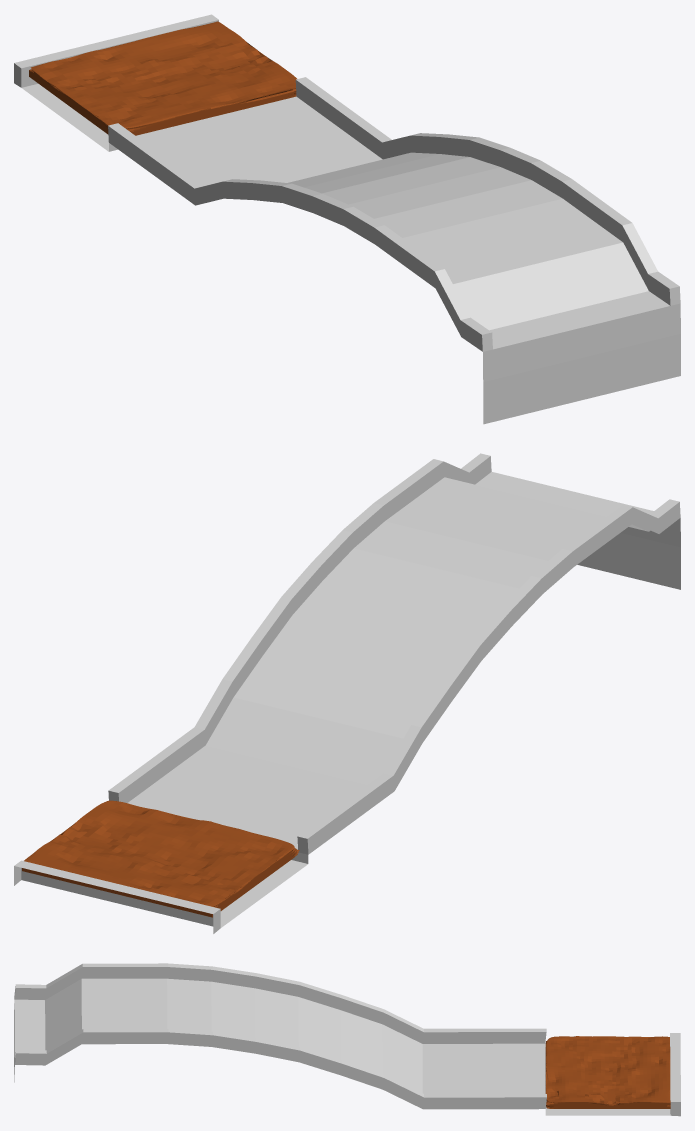
The model's file is RespawnPointModel.fbx.
3 renders of one model, top to bottom at view 1: azimuth 30°, elevation 25°; view 2: azimuth 150°, elevation 25°; view 3: azimuth 270°, elevation 25°, orthographic. The views are drawn at different scales.
Parts seen in each view (by area): view 1: Cube.011, Cube.012; view 2: Cube.011, Cube.012; view 3: Cube.011, Cube.012.
Boxes of the visible parts, x1,y1,x2,y2 form: Cube.011: [14, 14, 680, 424]; Cube.012: [29, 21, 296, 135]; Cube.011: [14, 453, 680, 933]; Cube.012: [22, 800, 299, 917]; Cube.011: [14, 963, 680, 1116]; Cube.012: [545, 1036, 670, 1108].
Size of the model in its own units: 1053 by 596 by 4271.
